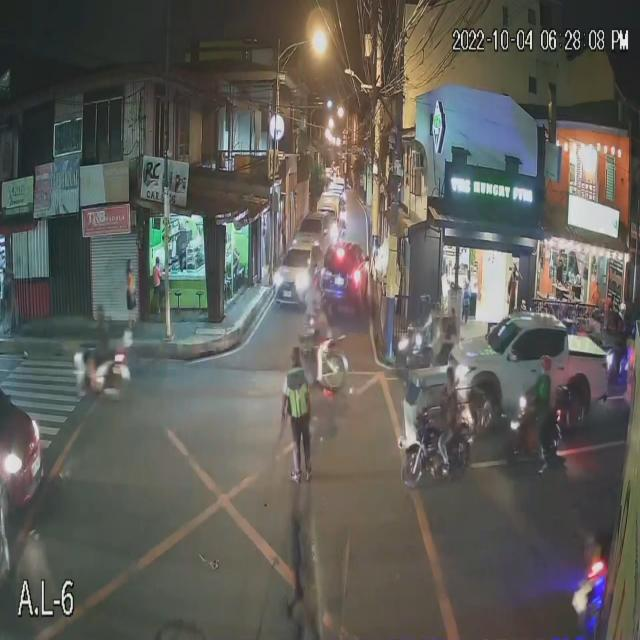Full-Faced: (92, 300, 108, 325), (441, 367, 458, 388)
Half-Faced: (536, 356, 552, 382)
